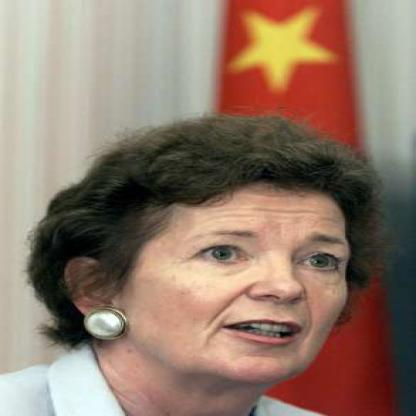face: (110, 135, 377, 393)
